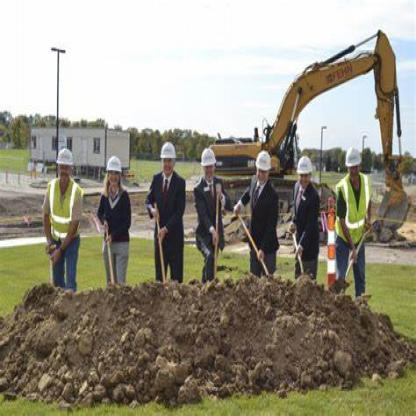person: (334, 130, 380, 320), (96, 137, 137, 336), (233, 138, 284, 288), (143, 129, 183, 309), (41, 141, 82, 300), (191, 132, 226, 310), (287, 138, 326, 296)
